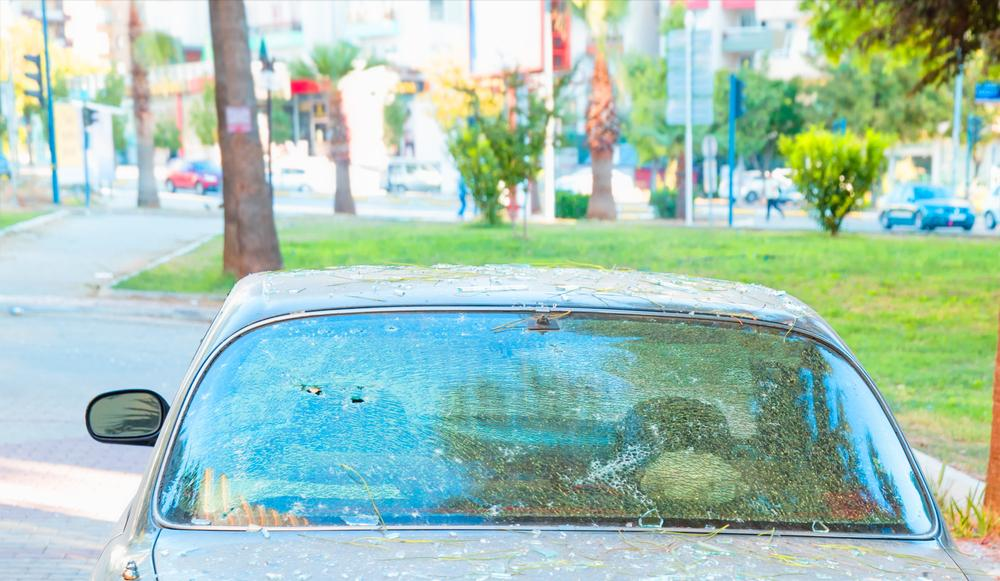glass shatter: (159, 311, 931, 535)
